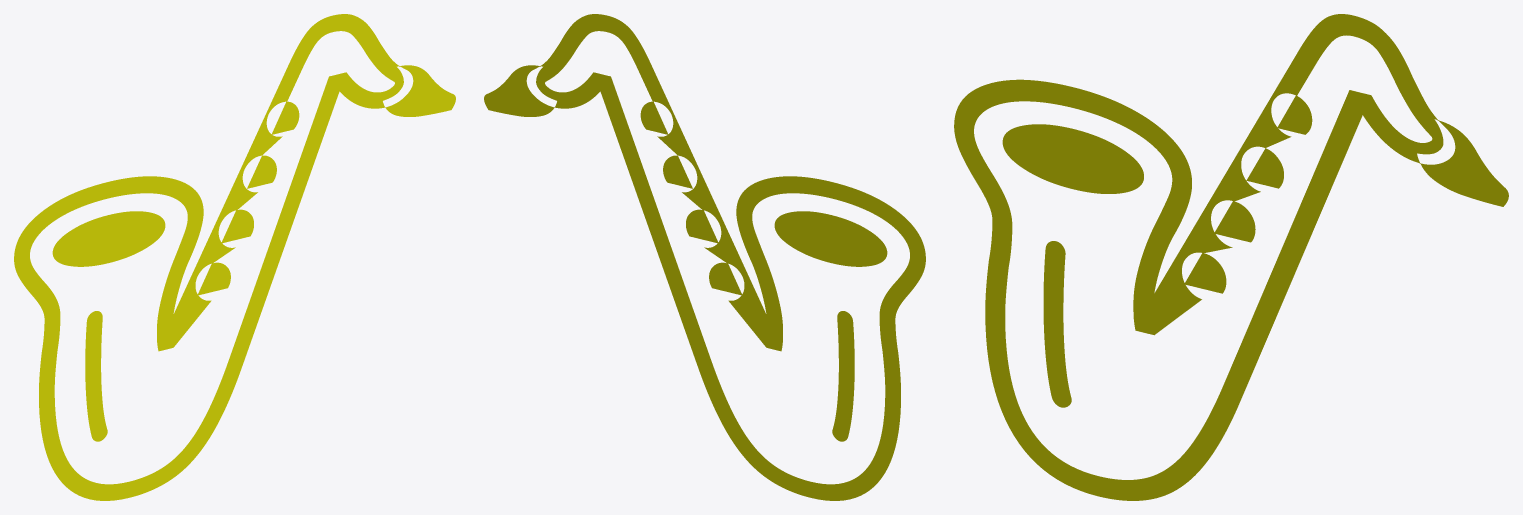
Rendered from saxophone.glb.
3 renders of one model, left to right at view 1: azimuth 30°, elevation 25°; view 2: azimuth 150°, elevation 25°; view 3: azimuth 330°, elevation 25°, orthographic. The views are drawn at different scales.
Parts seen in each view (by area): view 1: Text.1033_1033; view 2: Text.1033_1033; view 3: Text.1033_1033.
Part boxes in pixels (<box>): Text.1033_1033: <box>14,14,455,500</box>; Text.1033_1033: <box>484,14,925,500</box>; Text.1033_1033: <box>954,14,1508,500</box>.
Size of the model in its own units: 1.09 by 1.02 by 3.6e-06.
